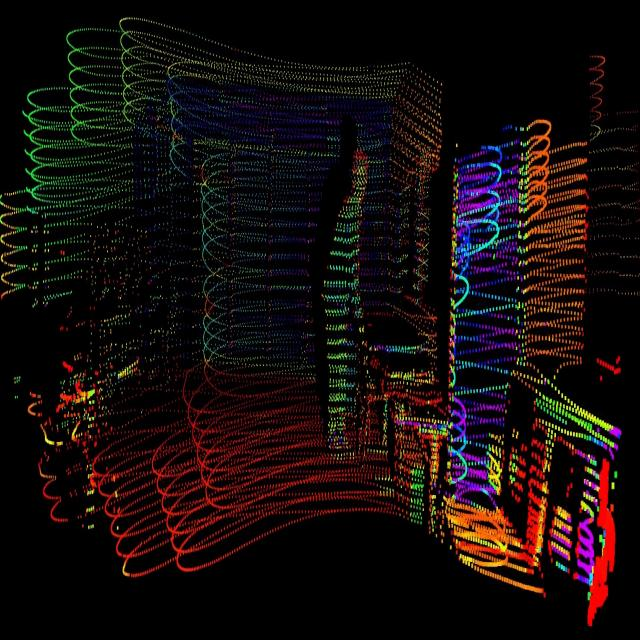human: (319, 137, 372, 470)
